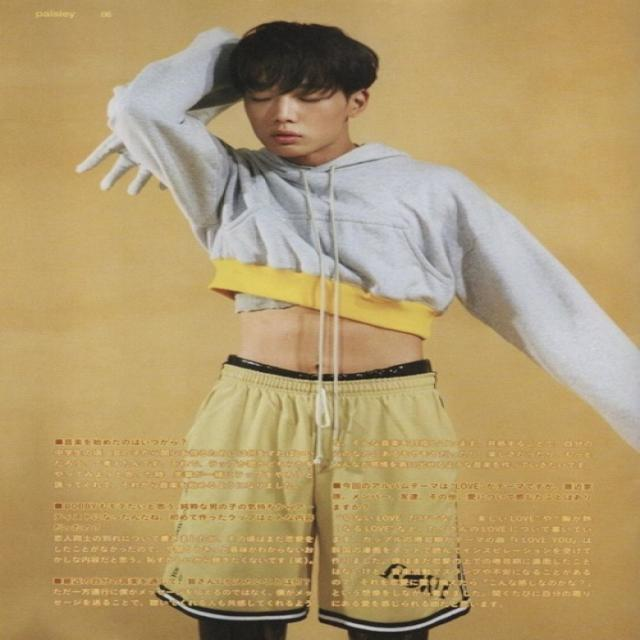clothes: (127, 98, 518, 630)
